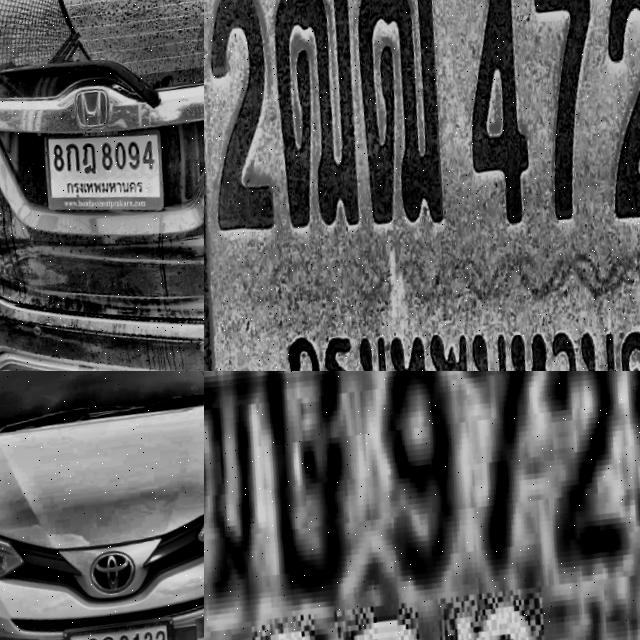license-plate: (204, 0, 640, 371), (204, 371, 640, 640), (42, 113, 181, 227), (68, 608, 191, 640)
